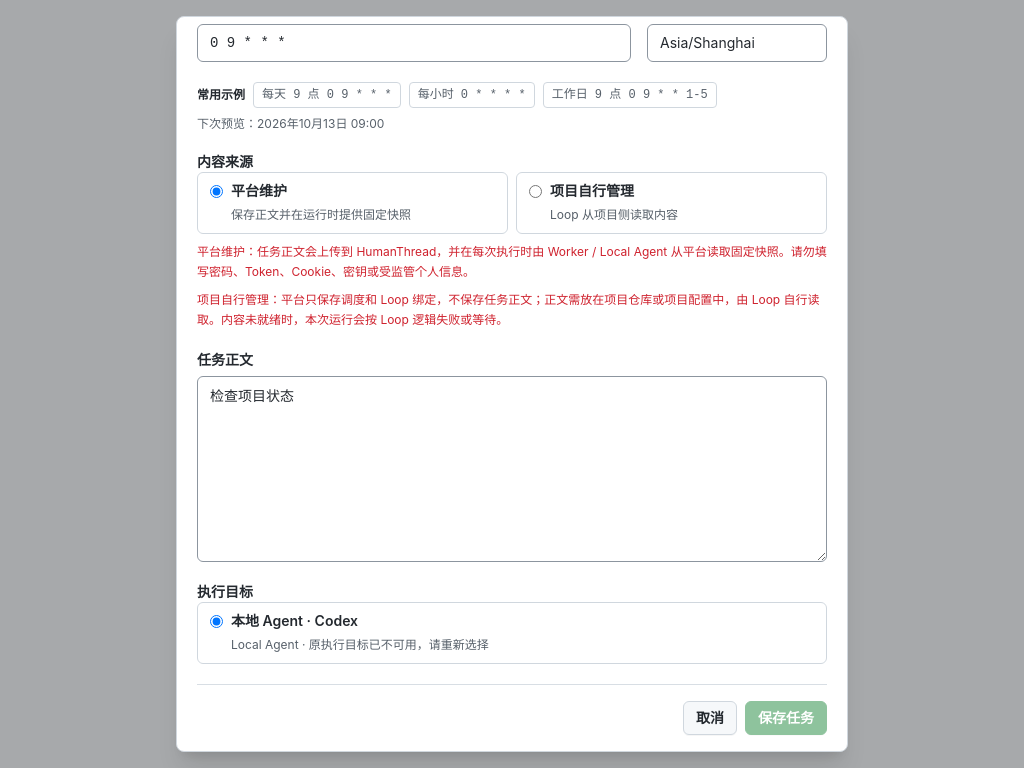
it: ProjectScheduledTaskDialog › requires a currently enabled Loop when the edited task's Loop is unavailable
The image size is (1024, 768).
(page scrolled)
Click the button "保存任务" at (786, 718), box left=745, top=701, right=827, bottom=735
(page scrolled)
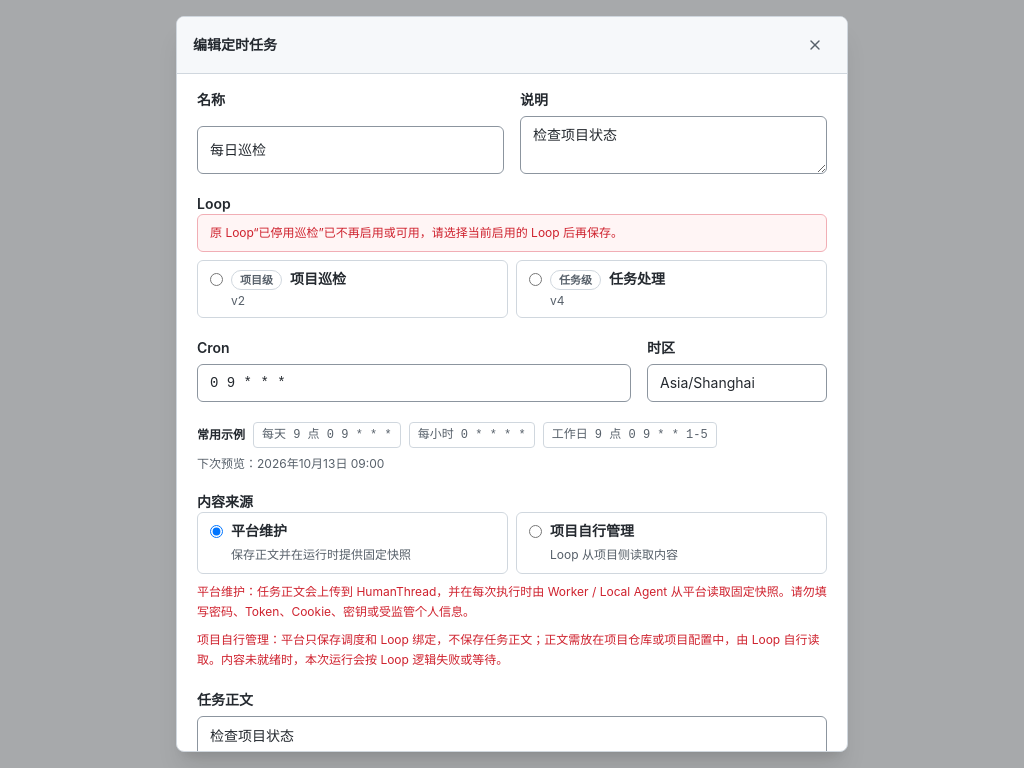
Click the 2nd radio button at (536, 280), box left=529, top=273, right=542, bottom=286
(page scrolled)
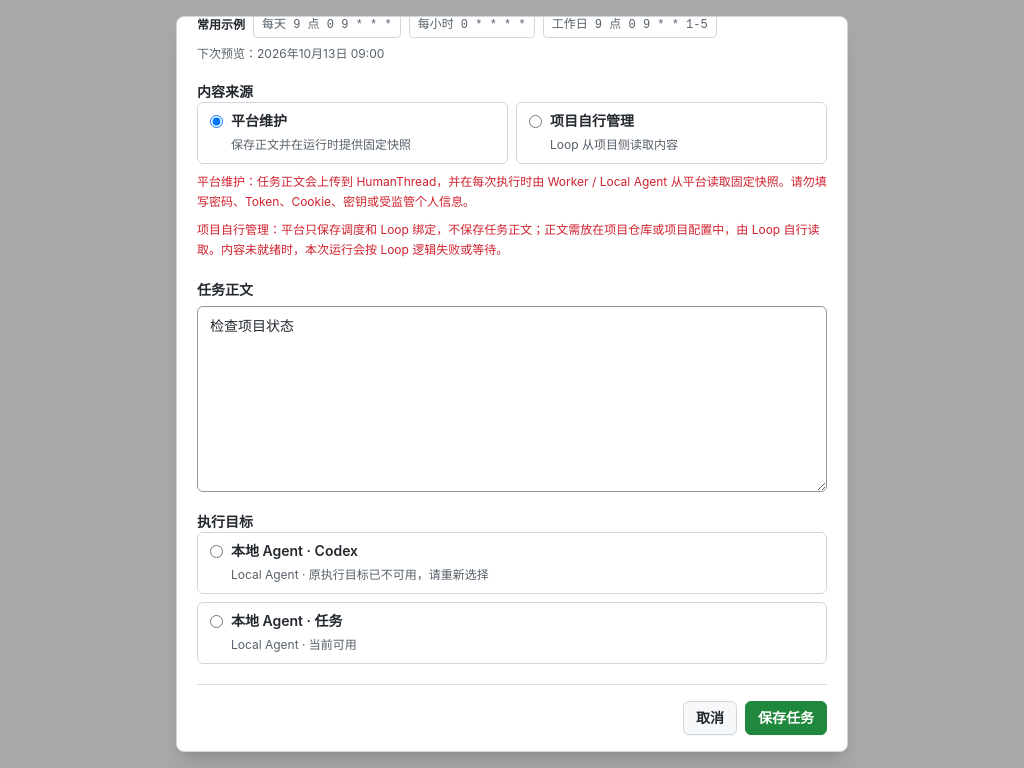
Result: the button "保存任务" is enabled at left=745, top=701, right=827, bottom=735
